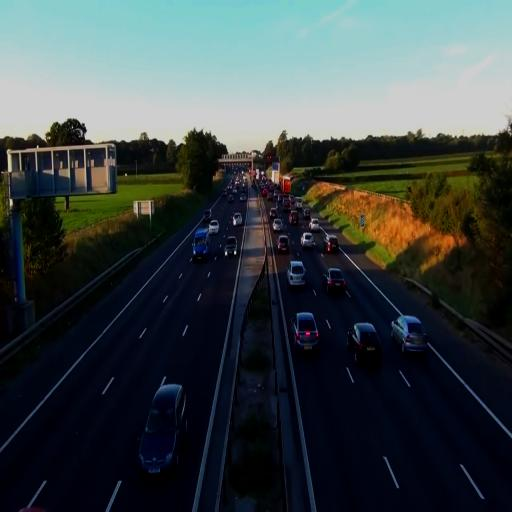vehicle: (138, 376, 188, 482), (348, 321, 382, 366), (390, 315, 428, 355), (292, 310, 320, 356), (402, 317, 428, 355), (191, 227, 210, 262), (326, 267, 346, 296), (287, 260, 307, 289), (276, 234, 290, 254), (224, 236, 237, 257), (300, 232, 315, 250), (208, 219, 220, 235), (232, 211, 243, 226)
